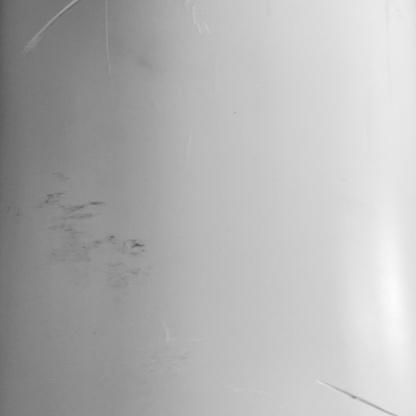sunshang: (323, 380, 397, 416), (26, 1, 76, 50)
